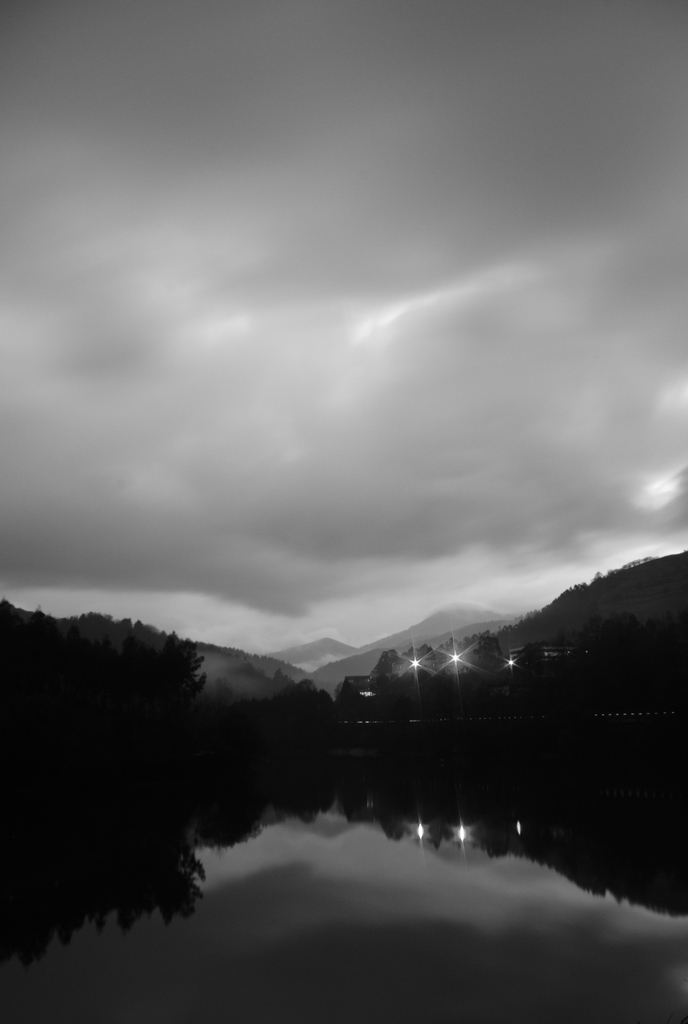Tree: (529, 609, 687, 714), (1, 611, 198, 695), (359, 632, 502, 677), (266, 679, 334, 728), (221, 661, 299, 688)
